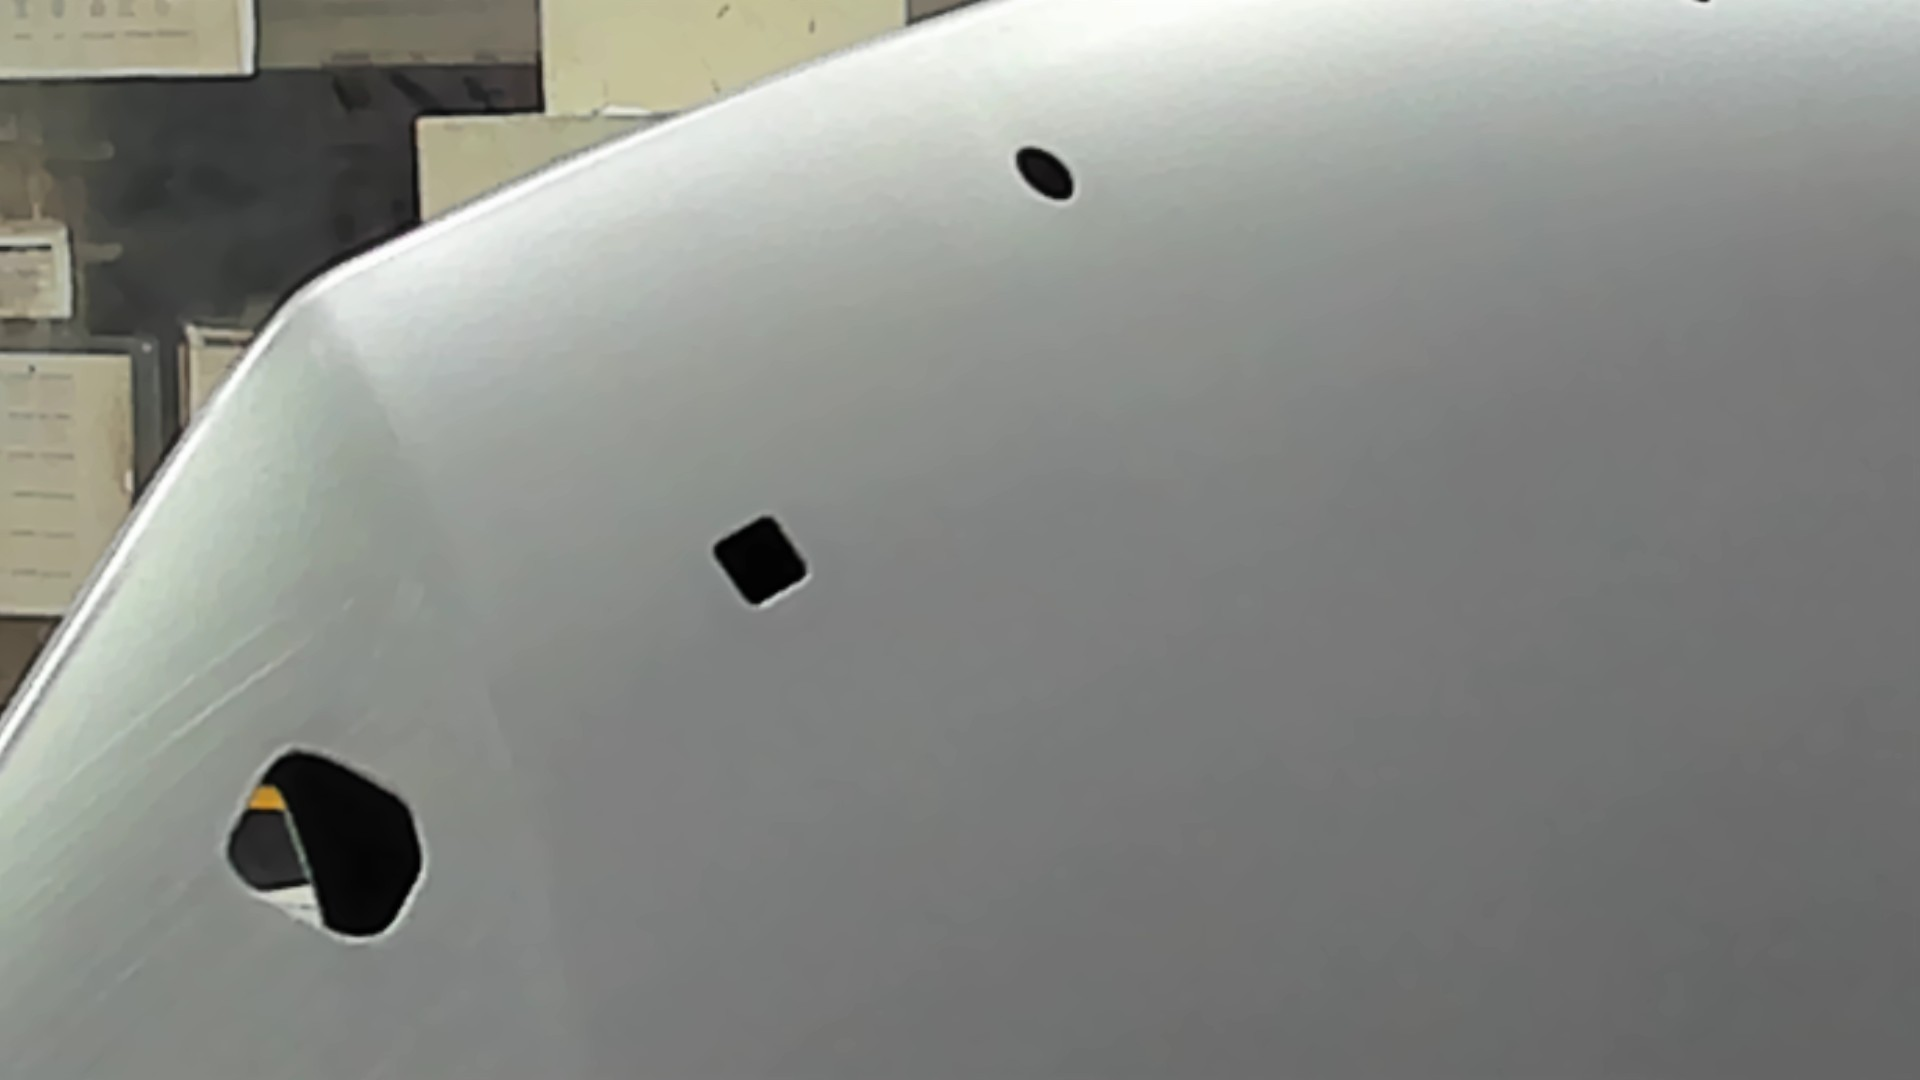chico: (1011, 141, 1077, 200)
grande: (222, 742, 433, 945)
mediano: (709, 512, 815, 612)
